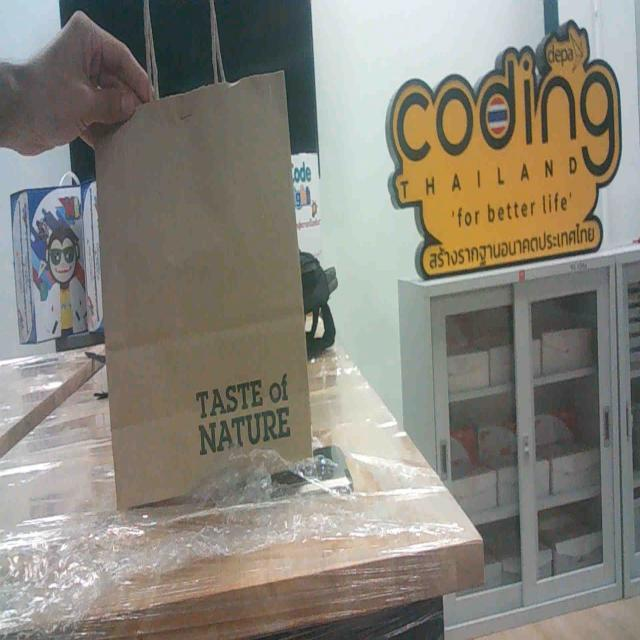bag: (89, 66, 333, 522)
